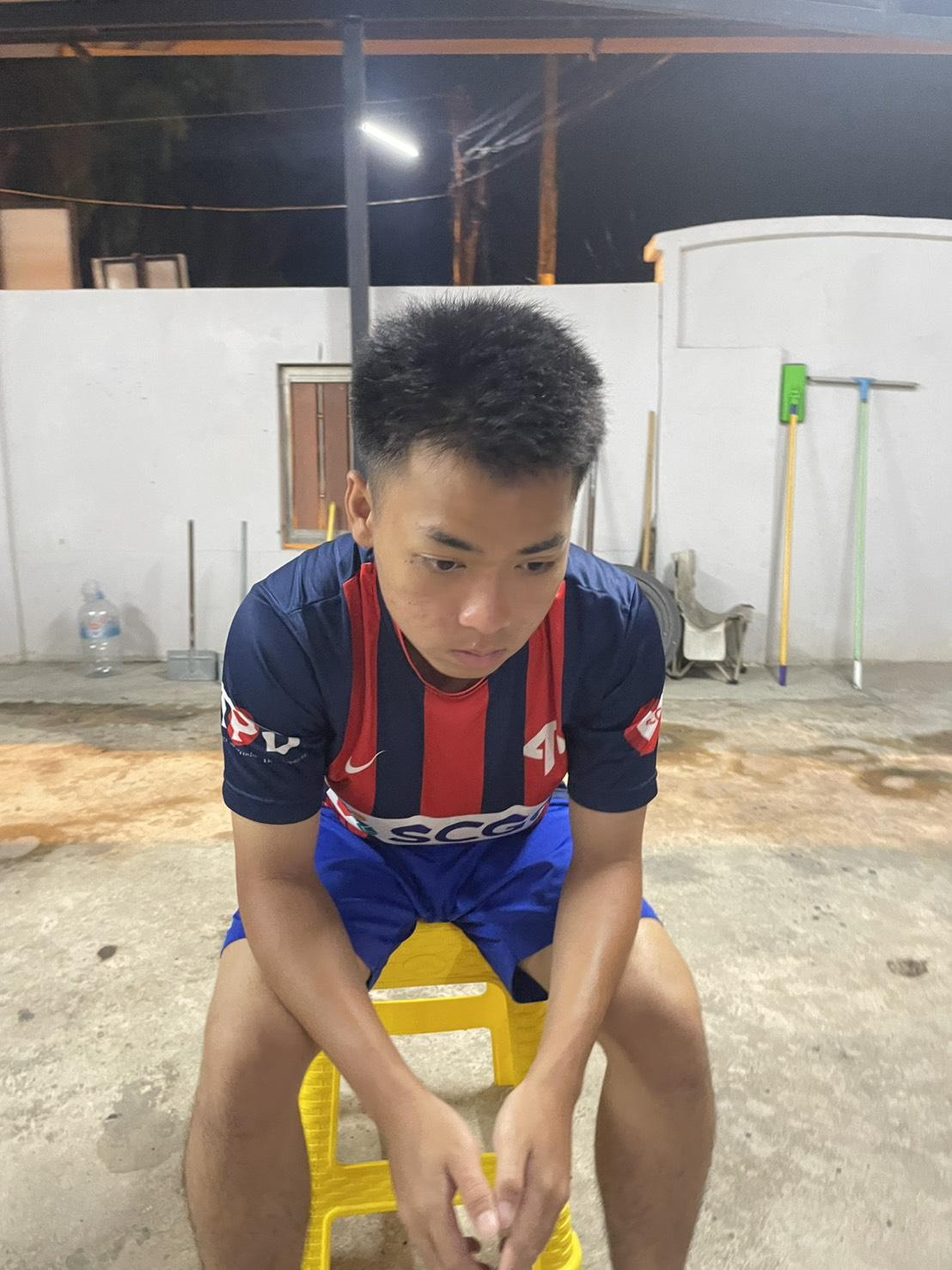BadPosture: (221, 297, 679, 929), (222, 296, 662, 849)
